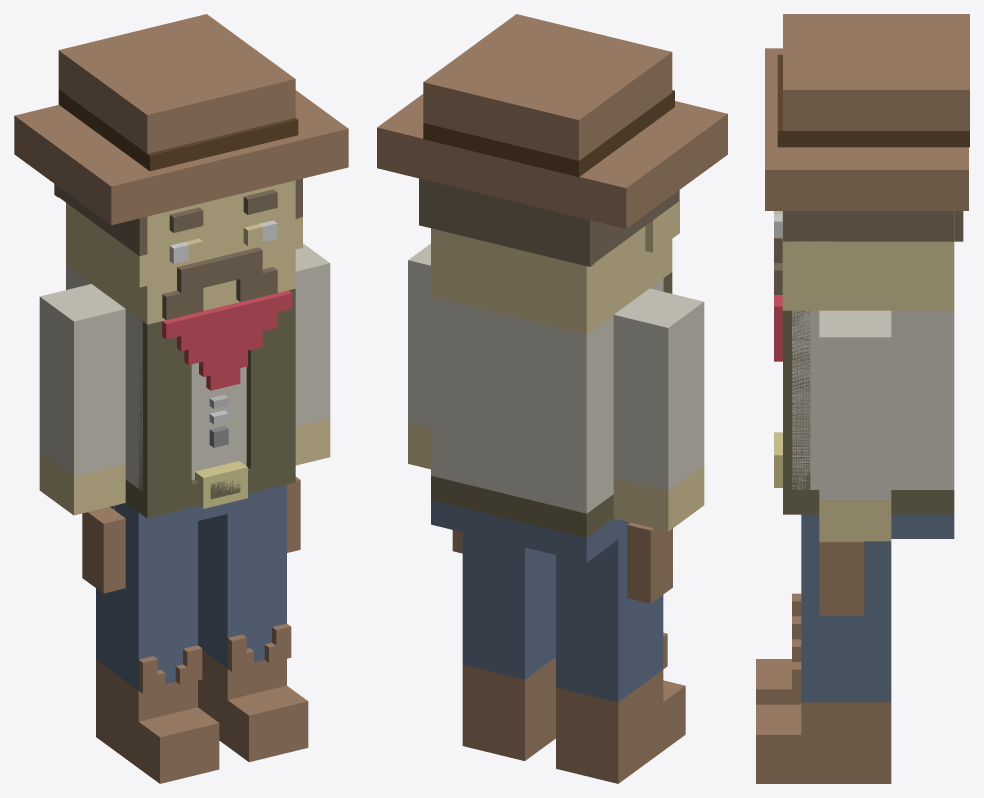
The model's file is elzing.glb.
The picture shows the model from 3 angles, left to right: view 1: azimuth 30°, elevation 25°; view 2: azimuth 150°, elevation 25°; view 3: azimuth 270°, elevation 25°; orthographic projection. The views are drawn at different scales.
Parts seen in each view (by area): view 1: Mesh_Mesh_head_geo.001_lambert2SG.001; view 2: Mesh_Mesh_head_geo.001_lambert2SG.001; view 3: Mesh_Mesh_head_geo.001_lambert2SG.001.
Part boxes in pixels (<box>): Mesh_Mesh_head_geo.001_lambert2SG.001: <box>14,14,348,783</box>; Mesh_Mesh_head_geo.001_lambert2SG.001: <box>377,14,727,783</box>; Mesh_Mesh_head_geo.001_lambert2SG.001: <box>756,14,969,783</box>.
Bounding box in the file's own units: 34 × 85 × 23.73.
